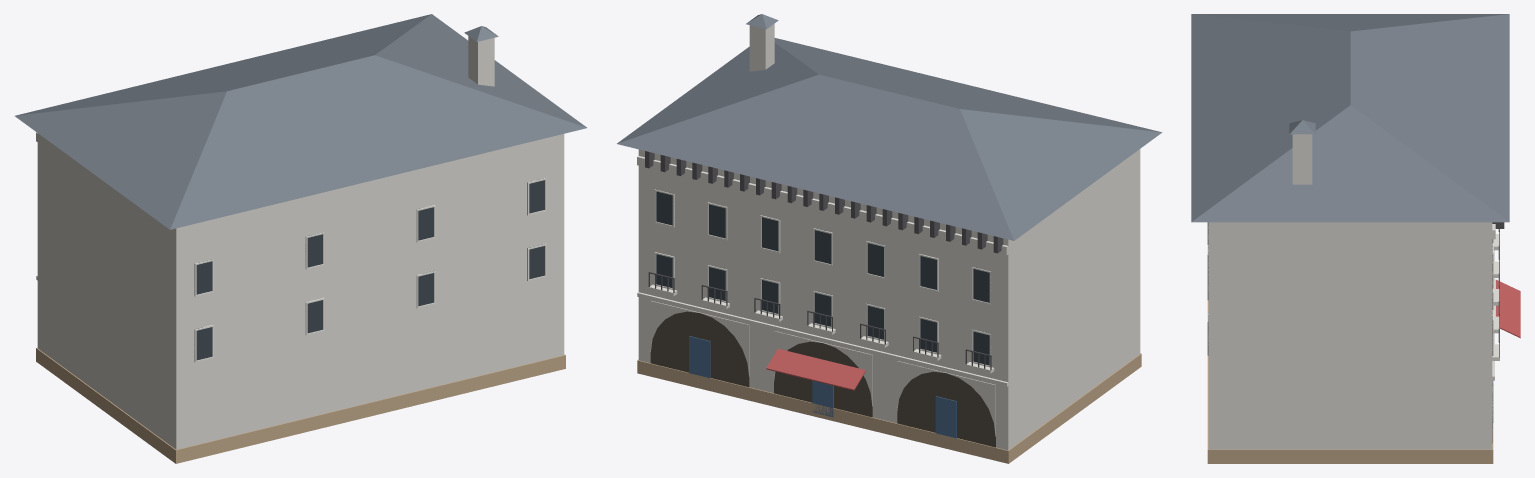
File: ca_classical3_shops.glb
3 renders of one model, left to right at view 1: azimuth 30°, elevation 25°; view 2: azimuth 150°, elevation 25°; view 3: azimuth 270°, elevation 25°, orthographic. The views are drawn at different scales.
Visible parts, largest first — view 1: ca_classical3_shops; view 2: ca_classical3_shops; view 3: ca_classical3_shops.
Part boxes in pixels (x1,y1,x2,y2): ca_classical3_shops: (15, 14, 586, 463); ca_classical3_shops: (617, 14, 1162, 463); ca_classical3_shops: (1191, 14, 1520, 463).
Size of the model in its own units: 22.6 by 16.45 by 15.1.
